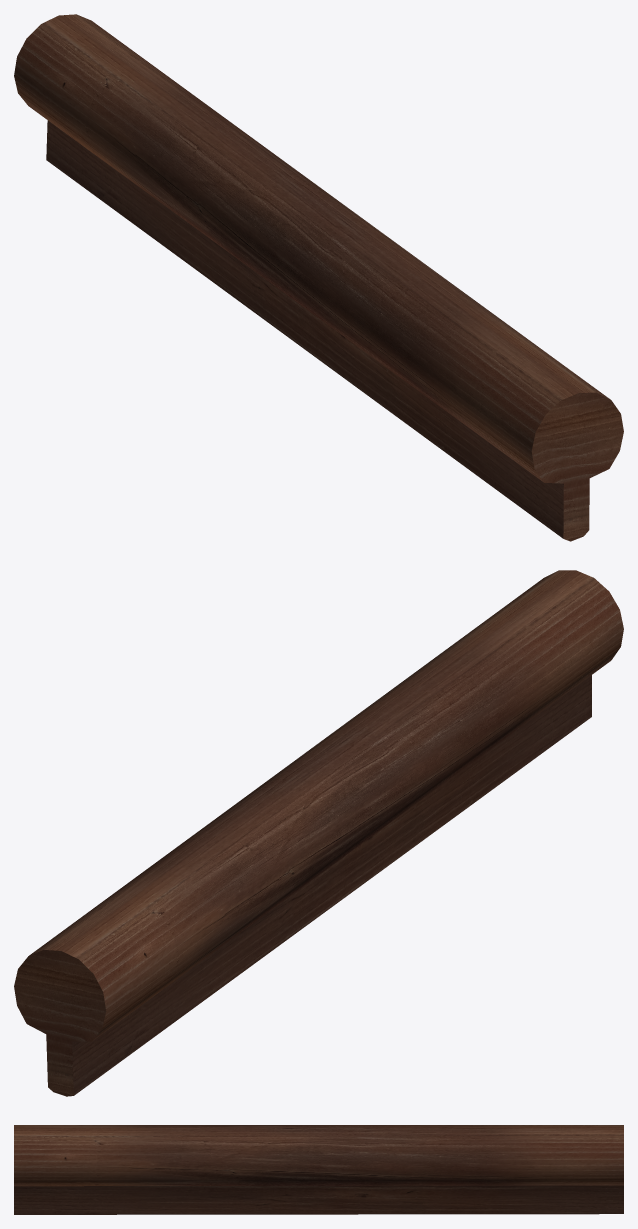
File: SM_R_Dancheong_34.fbx
3 views of the same model, one above another, from view 1: azimuth 30°, elevation 25°; view 2: azimuth 150°, elevation 25°; view 3: azimuth 270°, elevation 25° (orthographic). The views are drawn at different scales.
Parts seen in each view (by area): view 1: SM_R_Dancheong_34; view 2: SM_R_Dancheong_34; view 3: SM_R_Dancheong_34.
Part boxes in pixels (left/top/right/bottom): SM_R_Dancheong_34: left=14, top=14, right=623, bottom=541; SM_R_Dancheong_34: left=14, top=570, right=623, bottom=1096; SM_R_Dancheong_34: left=14, top=1125, right=623, bottom=1214.
Bounding box in the file's own units: 30.36 × 293 × 45.85.
1 material, 1 textured.
